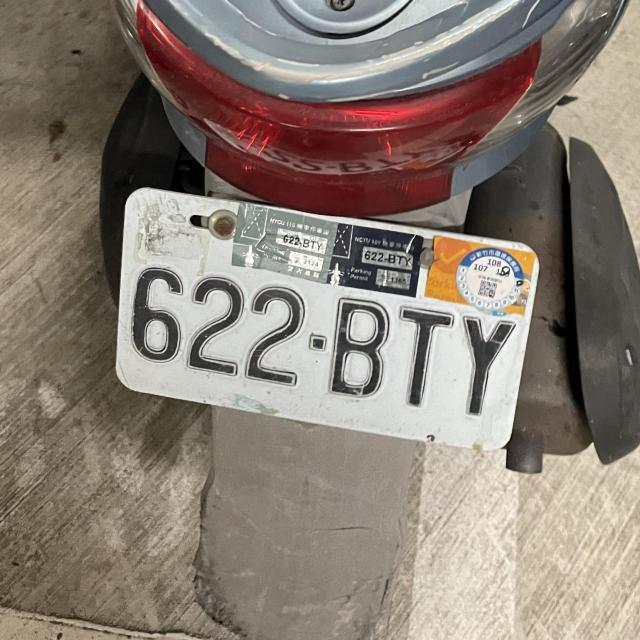W: (113, 186, 544, 454)
